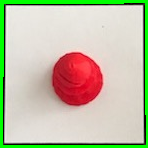Red Bishop: (47, 47, 105, 108)
